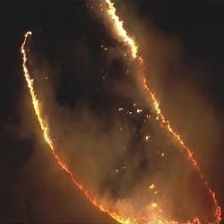fire: (107, 1, 221, 223), (15, 5, 93, 220)
